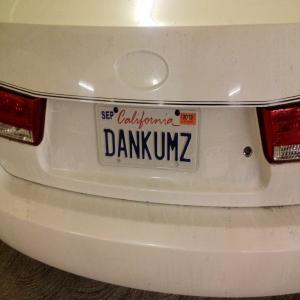Vehicle-registration-plate: (86, 104, 219, 184)
